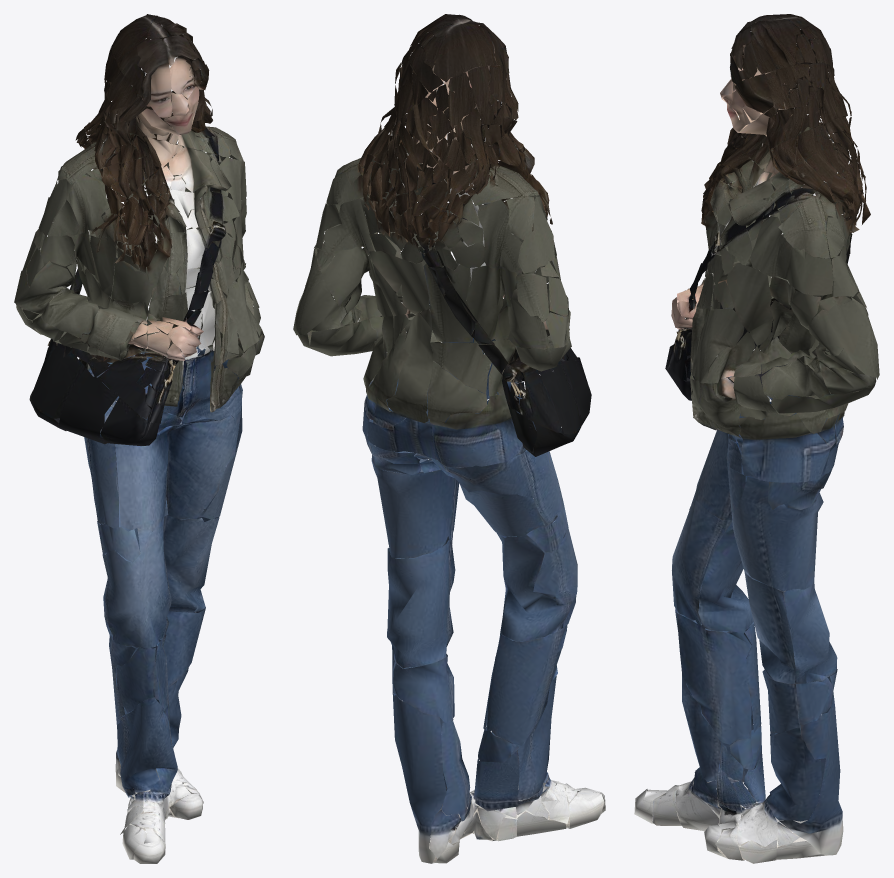
File: extra-woman-1.glb
3 views of the same model, side by side, from view 1: azimuth 30°, elevation 25°; view 2: azimuth 150°, elevation 25°; view 3: azimuth 270°, elevation 25° (orthographic). The views are drawn at different scales.
Visible parts, largest first — view 1: Mesh_0; view 2: Mesh_0; view 3: Mesh_0.
Boxes of the visible parts, x1=… form: Mesh_0: x1=14, y1=14, x2=264, y2=863; Mesh_0: x1=293, y1=14, x2=605, y2=863; Mesh_0: x1=634, y1=14, x2=879, y2=863.
Size of the model in its own units: 0.6082 by 1.91 by 0.5073.
1 material, 1 textured.
